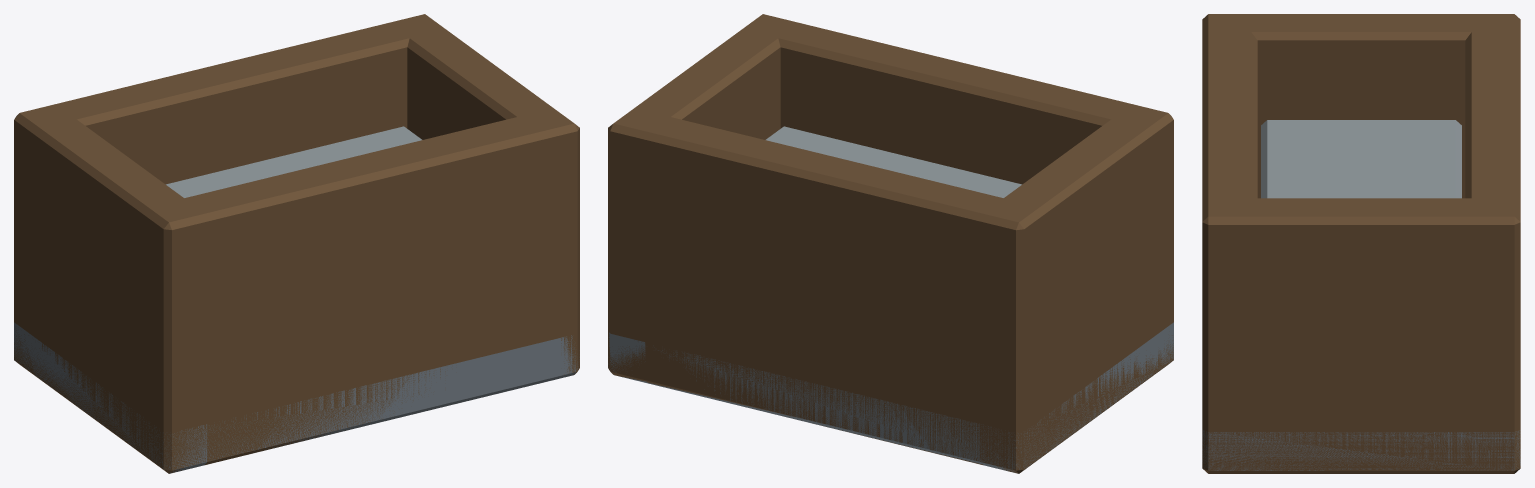
Rendered from town_wash_tub.lod1.glb.
3 views of the same model, side by side, from view 1: azimuth 30°, elevation 25°; view 2: azimuth 150°, elevation 25°; view 3: azimuth 270°, elevation 25° (orthographic). The views are drawn at different scales.
Bounding box in the file's own units: 1.42 × 0.82 × 0.92.
